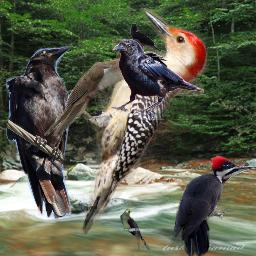Crow: (6, 45, 72, 218), (111, 39, 204, 120), (130, 23, 162, 54)
Cuckoo: (44, 57, 149, 136), (120, 209, 152, 251)
Woodpecker: (58, 8, 210, 235), (170, 155, 256, 256)
